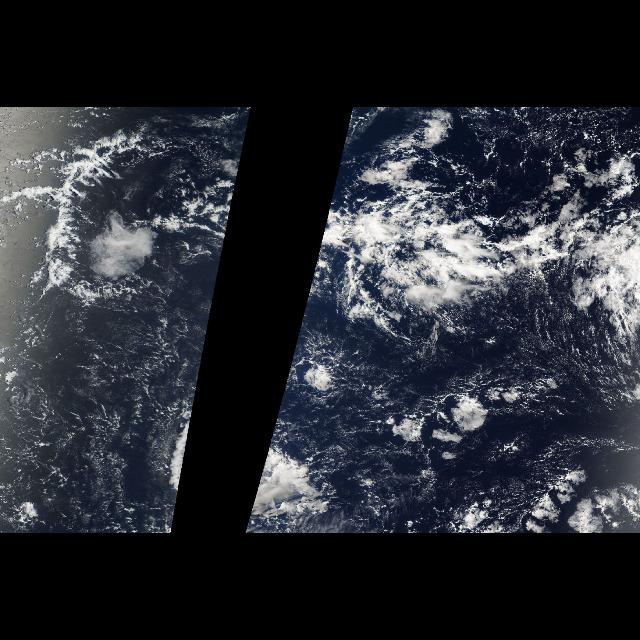Fish: (16, 122, 178, 194), (10, 198, 92, 308)
Flower: (299, 337, 583, 468), (69, 196, 195, 298)
Sugar: (9, 312, 189, 516), (468, 108, 636, 194)
